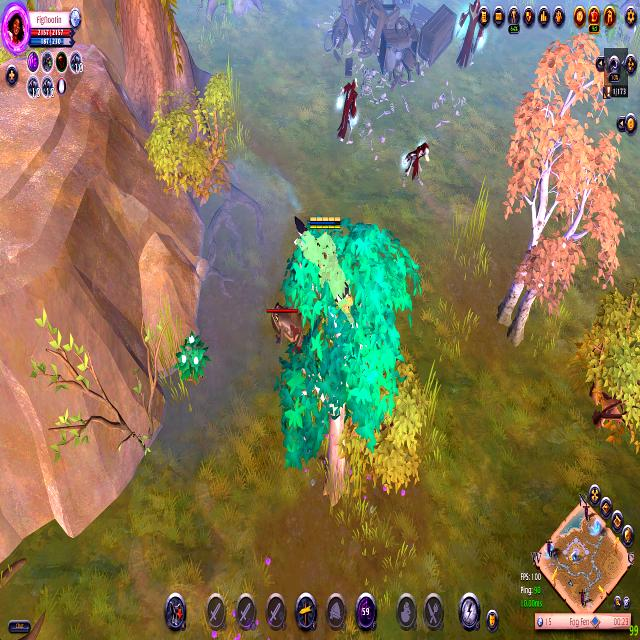hide: (173, 329, 210, 390)
ore: (260, 288, 312, 360), (449, 0, 495, 80), (398, 124, 434, 198), (334, 68, 365, 148)
wisp caged: (275, 211, 425, 517), (490, 32, 626, 356)
